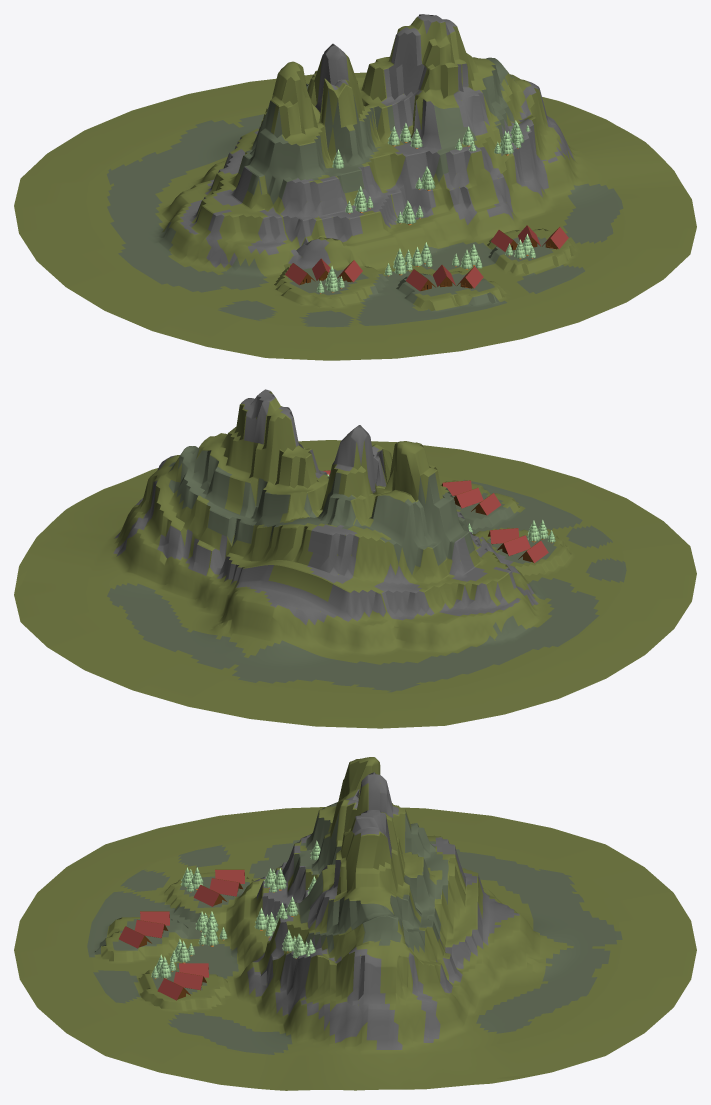
The model's file is gnParang.glb.
3 renders of one model, top to bottom at view 1: azimuth 30°, elevation 25°; view 2: azimuth 150°, elevation 25°; view 3: azimuth 270°, elevation 25°, orthographic. The views are drawn at different scales.
Parts seen in each view (by area): view 1: Plane, Cube.017, Cube.018, Cube.022; view 2: Plane, Cube.018, Cube.017; view 3: Plane, Cube.018, Cube.017, Cube.022.
Boxes of the visible parts, x1,y1,x2,y2 form: Plane: (14,14,696,360); Cube.017: (405,265,483,291); Cube.018: (285,258,362,285); Cube.022: (491,225,568,251); Plane: (14,389,696,728); Cube.018: (488,528,548,563); Cube.017: (441,480,501,515); Plane: (14,757,696,1090); Cube.018: (193,869,244,906); Cube.017: (119,911,169,948); Cube.022: (157,963,208,1000).
Size of the model in its own units: 29.88 by 8.55 by 29.88.
